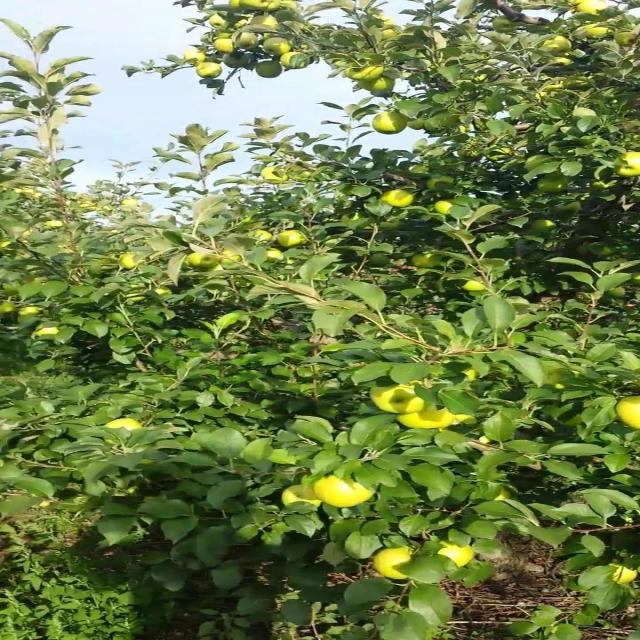apple: (312, 472, 377, 508), (369, 380, 432, 414), (397, 408, 453, 431), (376, 548, 414, 580), (106, 420, 144, 446), (284, 484, 324, 508), (440, 544, 476, 568), (611, 152, 639, 179), (618, 396, 639, 431), (383, 188, 418, 208), (376, 112, 405, 136), (362, 76, 398, 93), (348, 64, 386, 80), (575, 0, 612, 16), (540, 36, 574, 53), (540, 176, 571, 194), (611, 564, 638, 584), (191, 252, 220, 270), (276, 232, 308, 248), (412, 252, 443, 268), (284, 52, 311, 70), (262, 40, 292, 56), (582, 24, 612, 40), (255, 64, 284, 80), (262, 168, 290, 184), (291, 168, 318, 184), (212, 36, 236, 53), (490, 20, 521, 33), (234, 32, 258, 48), (198, 256, 222, 272), (426, 176, 455, 189), (184, 48, 206, 65), (198, 64, 222, 79), (255, 16, 279, 31), (433, 200, 455, 216), (454, 412, 478, 426), (490, 488, 514, 502), (461, 280, 489, 292), (269, 0, 299, 11), (383, 28, 409, 40), (490, 148, 514, 161), (589, 180, 620, 190), (227, 56, 252, 68), (212, 40, 235, 53), (532, 220, 556, 232), (220, 252, 244, 264), (120, 256, 140, 270), (127, 292, 149, 304), (618, 32, 635, 47), (262, 252, 284, 263), (554, 56, 576, 67), (461, 368, 478, 382), (35, 328, 60, 337), (234, 16, 252, 28), (255, 232, 274, 243), (20, 308, 44, 316), (212, 16, 228, 28), (412, 120, 427, 132), (120, 200, 140, 208), (243, 4, 265, 11), (49, 220, 66, 229), (262, 4, 283, 11), (156, 288, 172, 296), (547, 84, 565, 91), (220, 32, 235, 40), (227, 4, 242, 11), (6, 304, 16, 312), (234, 4, 244, 10)
